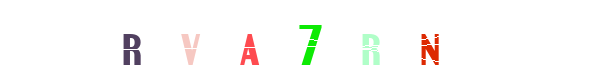7: (260, 0, 340, 80)
A: (248, 0, 328, 80)
N: (389, 0, 469, 80)
R: (91, 0, 171, 80), (271, 0, 351, 80)
V: (239, 0, 319, 80)
